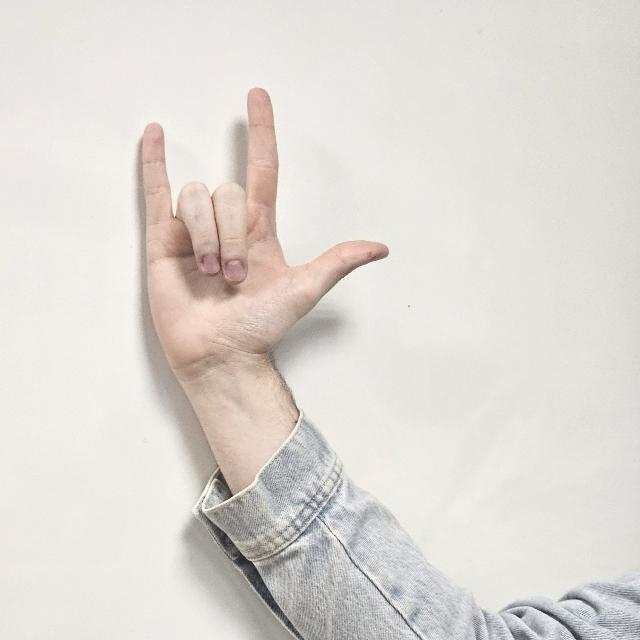Cima: (132, 86, 396, 370)
